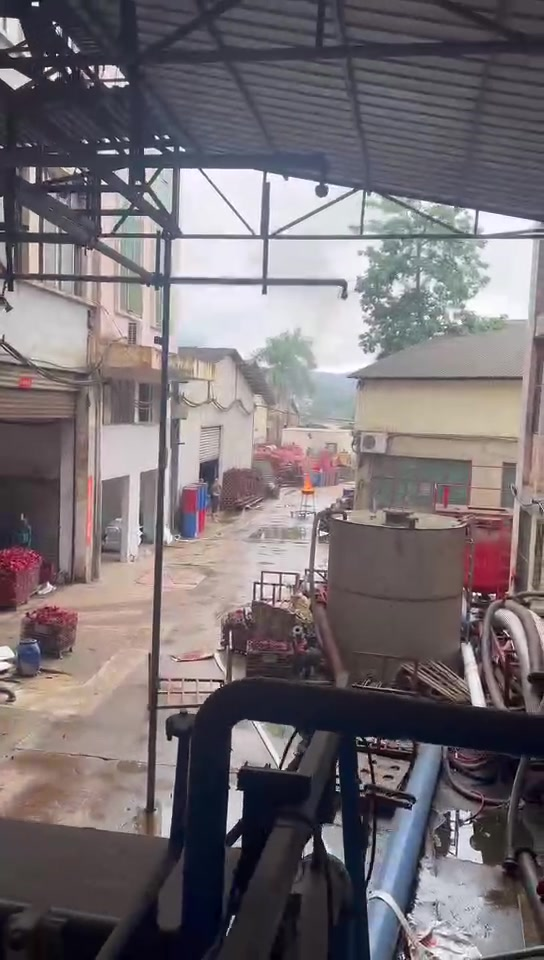fire: (303, 474, 312, 491)
